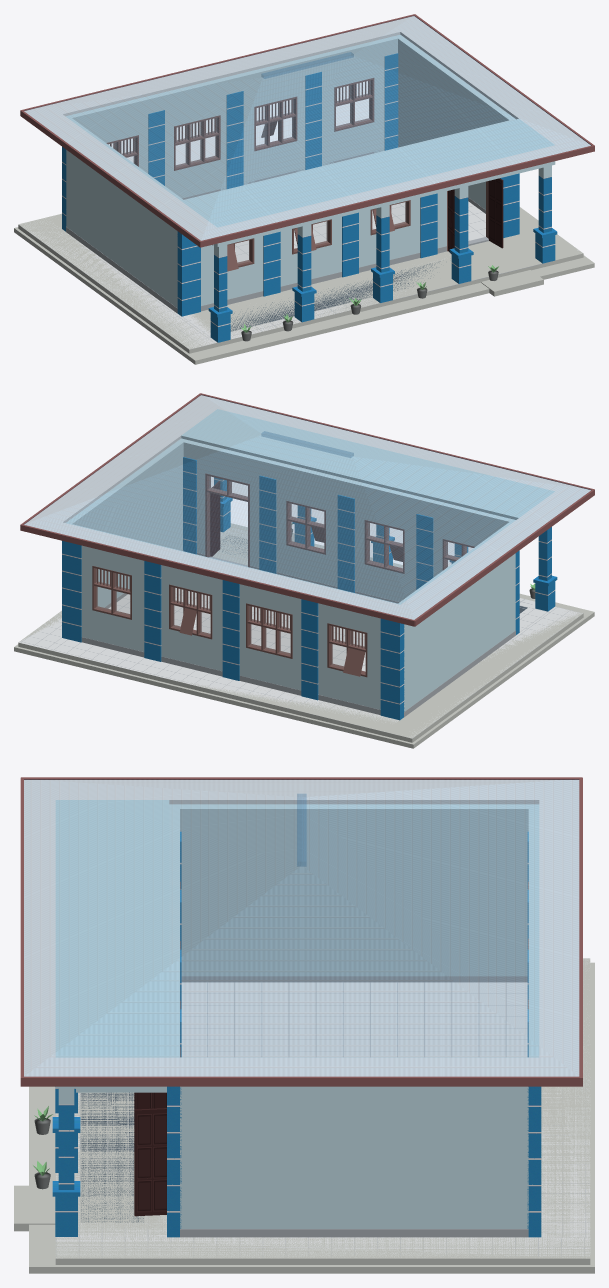
The model's file is lab_perakitan_2_cutaway.glb.
3 renders of one model, top to bottom at view 1: azimuth 30°, elevation 25°; view 2: azimuth 150°, elevation 25°; view 3: azimuth 270°, elevation 25°, orthographic. The views are drawn at different scales.
Visible parts, largest first — view 1: Atap_Genteng_Metal_Biru, Dinding_Biru_Muda_Perakitan2, Curb_Dan_Tangga_Beton, Pilaster_Dan_Tiang_Biru_Cerulean, Plafon_Overhang_Dan_Lampu, Kusen_Coklat_Gelap, Lisplang_Marun_Atap, Selasar_Keramik_Putih_Keliling, Kaca_Jendela_Transparan, Koridor_Putih_Slate_Putih, Plint_Dinding_Abu, Lantai_1_Kelas_Kosong (+2 smaller); view 2: Atap_Genteng_Metal_Biru, Dinding_Biru_Muda_Perakitan2, Pilaster_Dan_Tiang_Biru_Cerulean, Plafon_Overhang_Dan_Lampu, Curb_Dan_Tangga_Beton, Kusen_Coklat_Gelap, Selasar_Keramik_Putih_Keliling, Lisplang_Marun_Atap, Kaca_Jendela_Transparan, Plint_Dinding_Abu, Lantai_1_Kelas_Kosong, Daun_Pintu_Marun_6Panel; view 3: Atap_Genteng_Metal_Biru, Dinding_Biru_Muda_Perakitan2, Curb_Dan_Tangga_Beton, Plafon_Overhang_Dan_Lampu, Lantai_1_Kelas_Kosong, Selasar_Keramik_Putih_Keliling, Lisplang_Marun_Atap, Pilaster_Dan_Tiang_Biru_Cerulean, Plint_Dinding_Abu, Koridor_Putih_Slate_Putih, Daun_Pintu_Marun_6Panel.
Boxes of the visible parts, x1,y1,x2,y2 form: Atap_Genteng_Metal_Biru: [25, 16, 589, 239]; Dinding_Biru_Muda_Perakitan2: [66, 34, 555, 307]; Curb_Dan_Tangga_Beton: [14, 207, 594, 364]; Pilaster_Dan_Tiang_Biru_Cerulean: [62, 53, 557, 342]; Plafon_Overhang_Dan_Lampu: [24, 16, 590, 240]; Kusen_Coklat_Gelap: [106, 78, 488, 271]; Lisplang_Marun_Atap: [20, 14, 594, 247]; Selasar_Keramik_Putih_Keliling: [19, 217, 579, 349]; Kaca_Jendela_Transparan: [109, 81, 405, 263]; Koridor_Putih_Slate_Putih: [230, 258, 536, 337]; Plint_Dinding_Abu: [66, 146, 488, 313]; Lantai_1_Kelas_Kosong: [235, 201, 485, 262]; Atap_Genteng_Metal_Biru: [24, 395, 589, 618]; Dinding_Biru_Muda_Perakitan2: [66, 409, 554, 711]; Pilaster_Dan_Tiang_Biru_Cerulean: [62, 457, 557, 720]; Plafon_Overhang_Dan_Lampu: [24, 395, 590, 619]; Curb_Dan_Tangga_Beton: [14, 523, 594, 748]; Kusen_Coklat_Gelap: [92, 473, 474, 677]; Selasar_Keramik_Putih_Keliling: [18, 528, 582, 738]; Lisplang_Marun_Atap: [20, 393, 594, 626]; Kaca_Jendela_Transparan: [96, 477, 472, 667]; Plint_Dinding_Abu: [81, 550, 515, 717]; Lantai_1_Kelas_Kosong: [108, 588, 365, 671]; Daun_Pintu_Marun_6Panel: [210, 481, 220, 556]; Atap_Genteng_Metal_Biru: [24, 779, 578, 1075]; Dinding_Biru_Muda_Perakitan2: [55, 800, 539, 1228]; Curb_Dan_Tangga_Beton: [14, 958, 594, 1273]; Plafon_Overhang_Dan_Lampu: [24, 780, 579, 1076]; Lantai_1_Kelas_Kosong: [181, 982, 527, 1057]; Selasar_Keramik_Putih_Keliling: [55, 958, 590, 1259]; Lisplang_Marun_Atap: [20, 777, 582, 1086]; Pilaster_Dan_Tiang_Biru_Cerulean: [52, 831, 541, 1237]; Plint_Dinding_Abu: [180, 976, 528, 1237]; Koridor_Putih_Slate_Putih: [56, 1092, 166, 1222]; Daun_Pintu_Marun_6Panel: [134, 1092, 166, 1216].
Size of the model in its own units: 12.06 by 5.43 by 9.73.
Materials: 17 (7 with a texture image).
